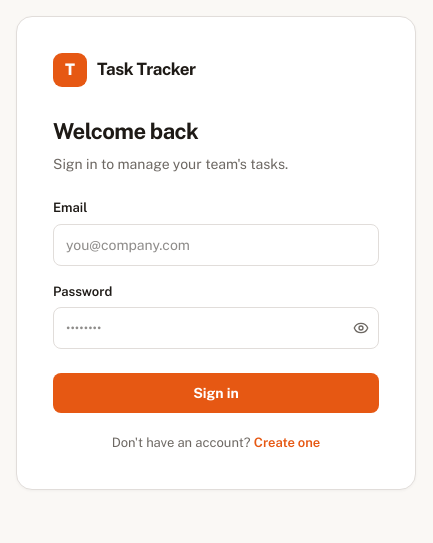
it: LoginPage › shows an error message when login fails
In the field labelled "Email": (216, 244) [53,224,379,266], type "wrong@example.com"
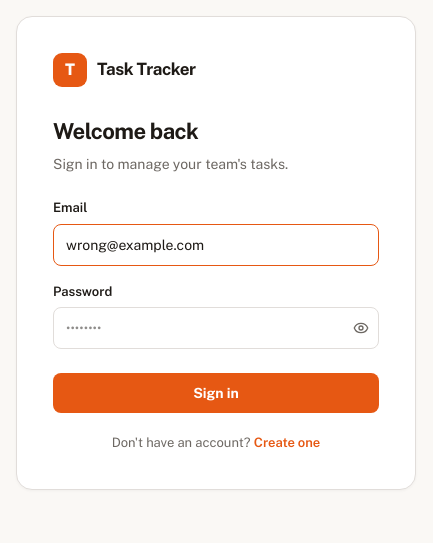
In the password field with placeholder "••••••••": (216, 328) [53,307,379,349], type "wrongpass"
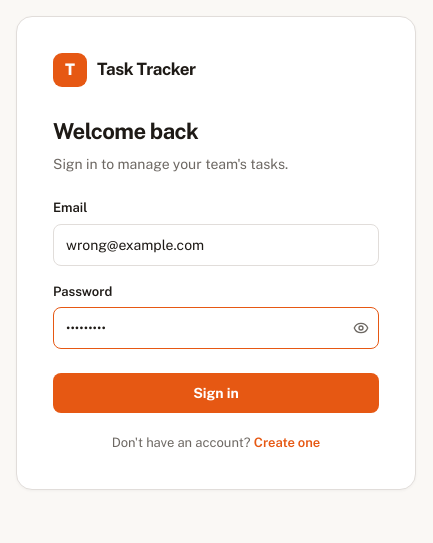
Click the button "Sign in": (216, 393) [53,373,379,413]
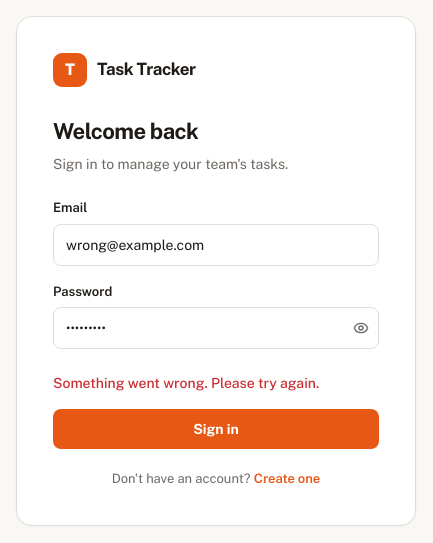
Expected: the text "Something went wrong. Please try again." is shown, [53,375,319,391]
